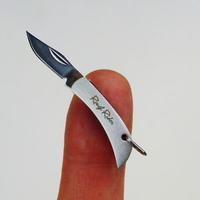knife: (22, 24, 143, 169)
